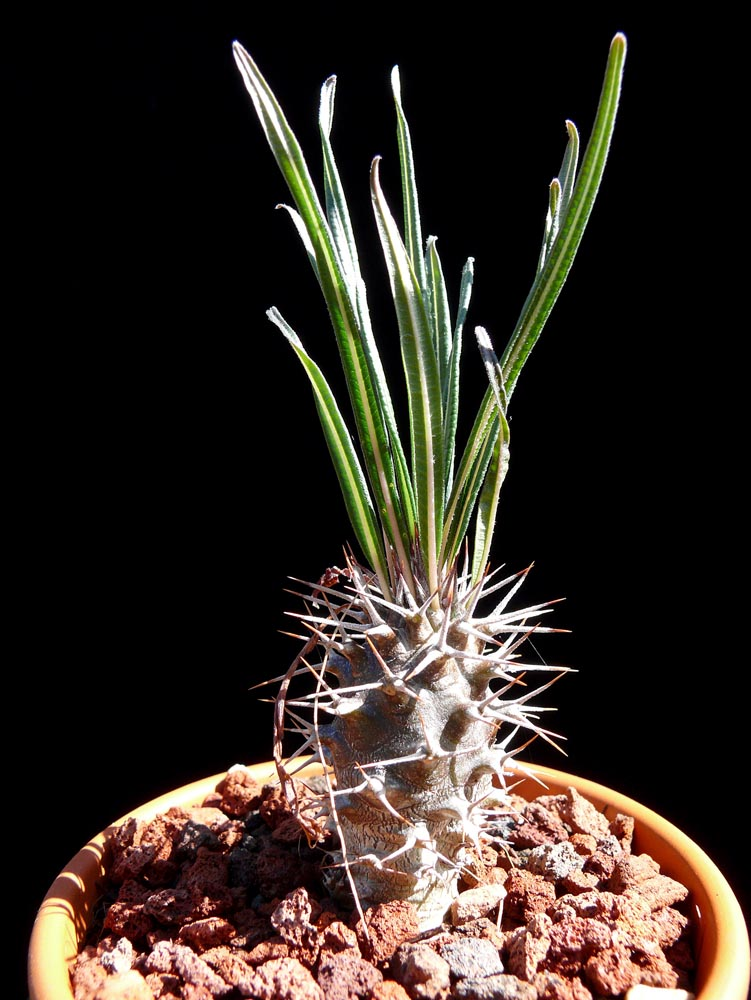Pachypodium geayi: (263, 99, 612, 965)
